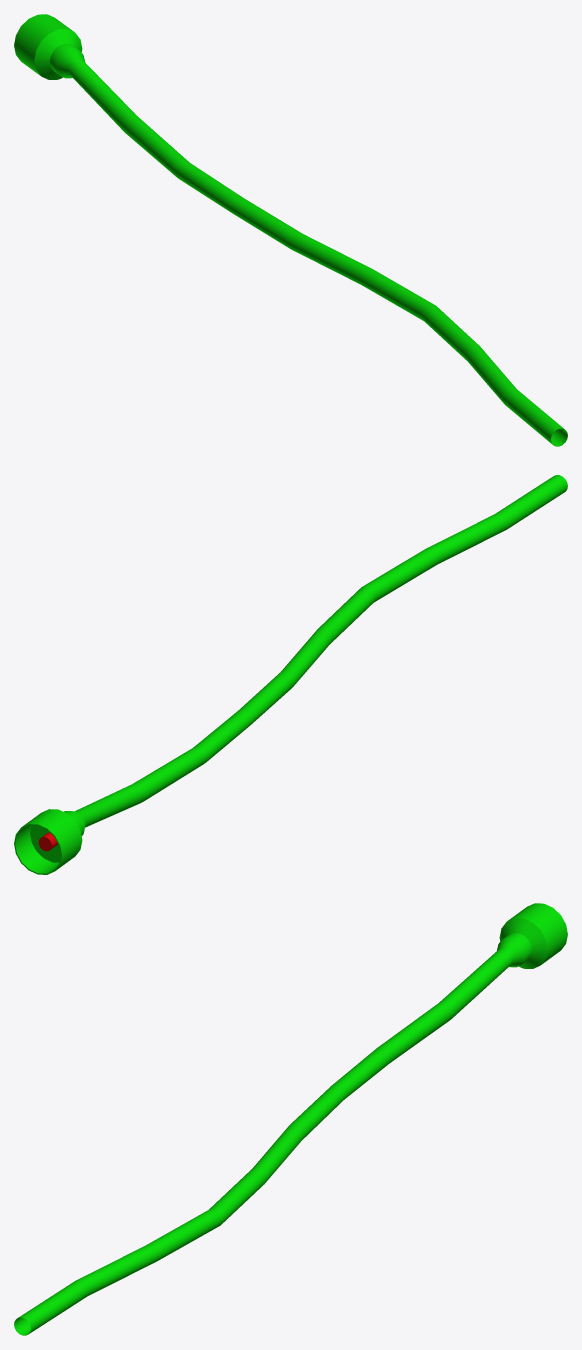
File: Power Cable.fbx
3 views of the same model, one above another, from view 1: azimuth 30°, elevation 25°; view 2: azimuth 150°, elevation 25°; view 3: azimuth 330°, elevation 25° (orthographic).
Visible parts, largest first — view 1: Cylinder; view 2: Cylinder; view 3: Cylinder.
Part boxes in pixels (box(x1,y1,x2,y2)): Cylinder: box(14, 14, 567, 446); Cylinder: box(14, 475, 567, 874); Cylinder: box(14, 903, 567, 1335).
Bounding box in the file's own units: 28.11 × 21.71 × 397.
